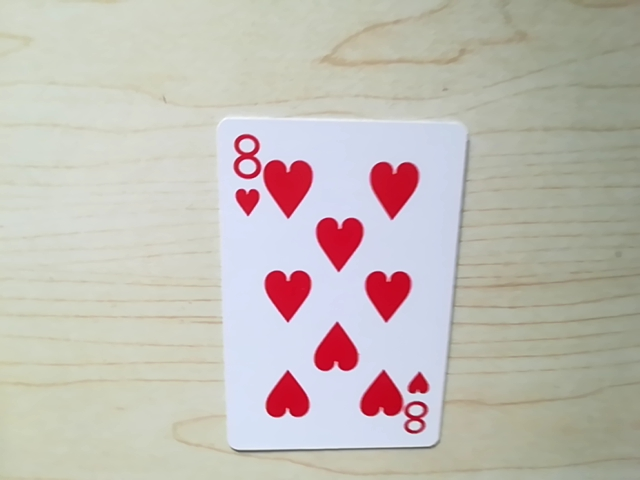hx 8: (227, 128, 261, 220), (398, 370, 434, 440)
